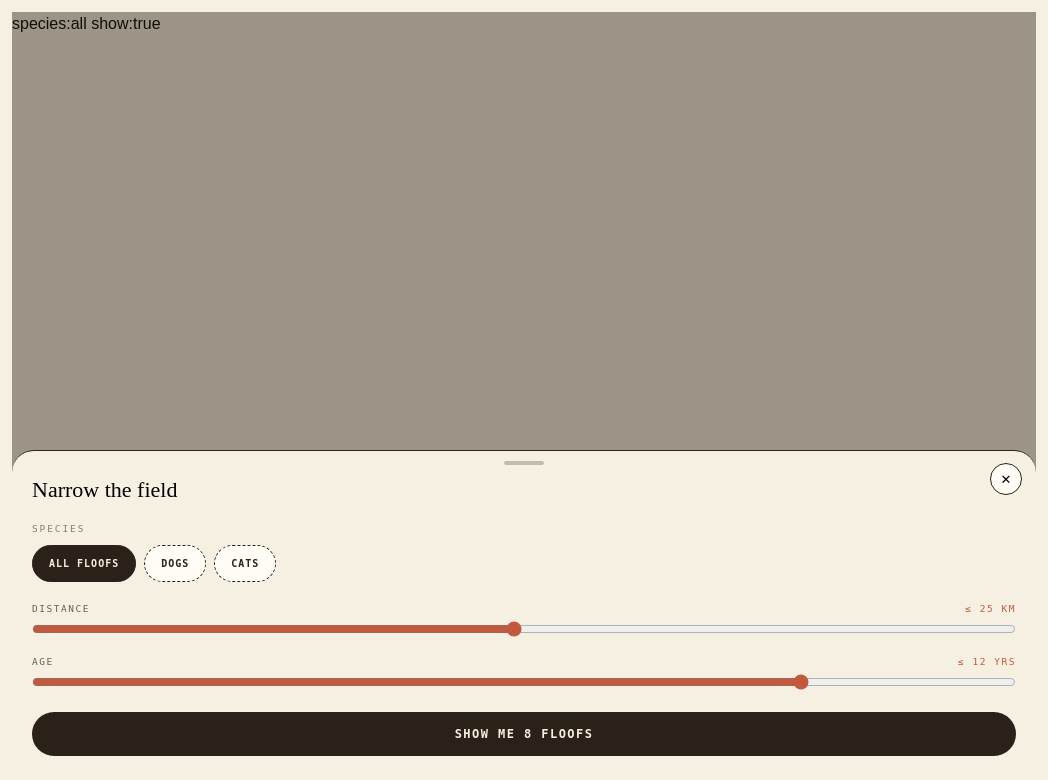
Test: FiltersSheet › sets species to dogs
The width and height of the screenshot is (1048, 780).
What coordinates should you click on to do the following:
click the button "DOGS"
I would click on:
 (175, 563)
Its box is left=144, top=544, right=206, bottom=582.
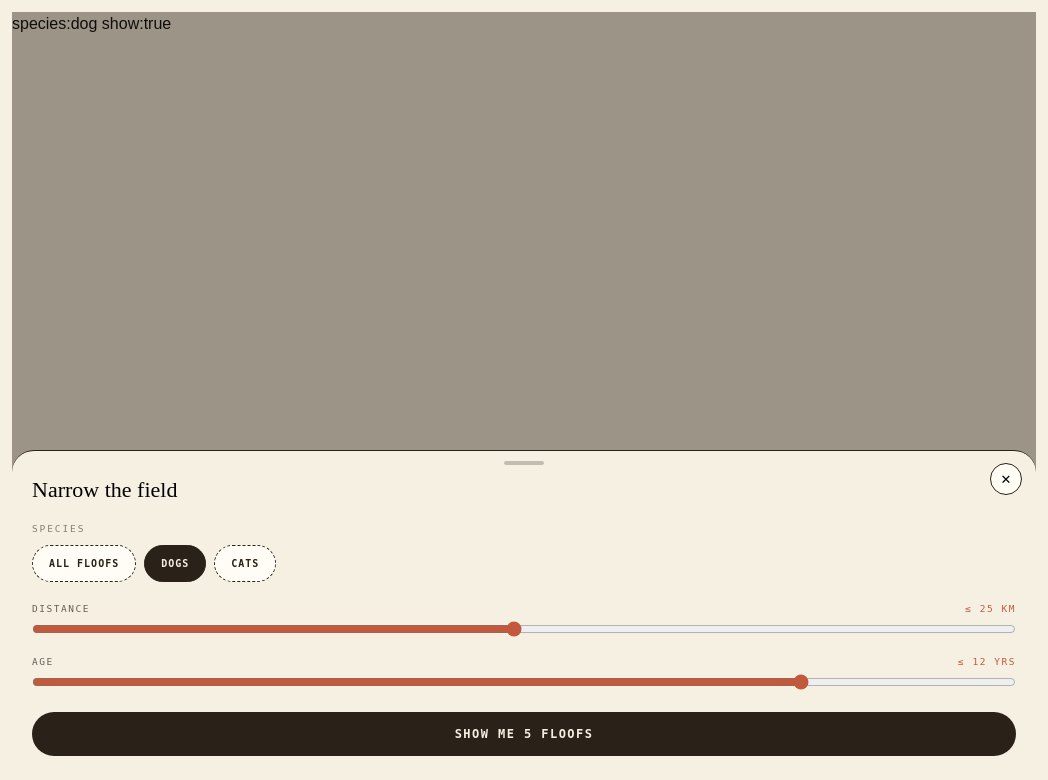
Expected: the text "species:dog show:true" is shown, left=12, top=15, right=171, bottom=32
